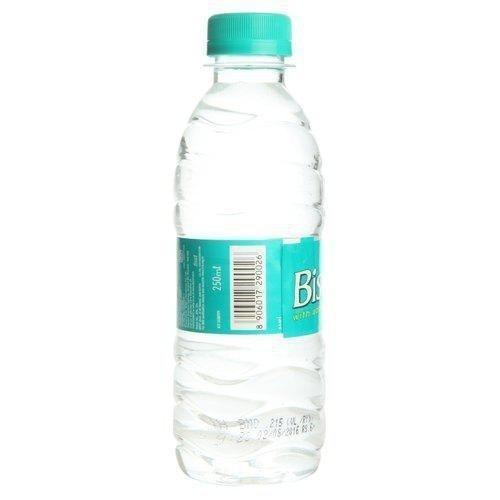bottle-plastic: (168, 9, 332, 481)
